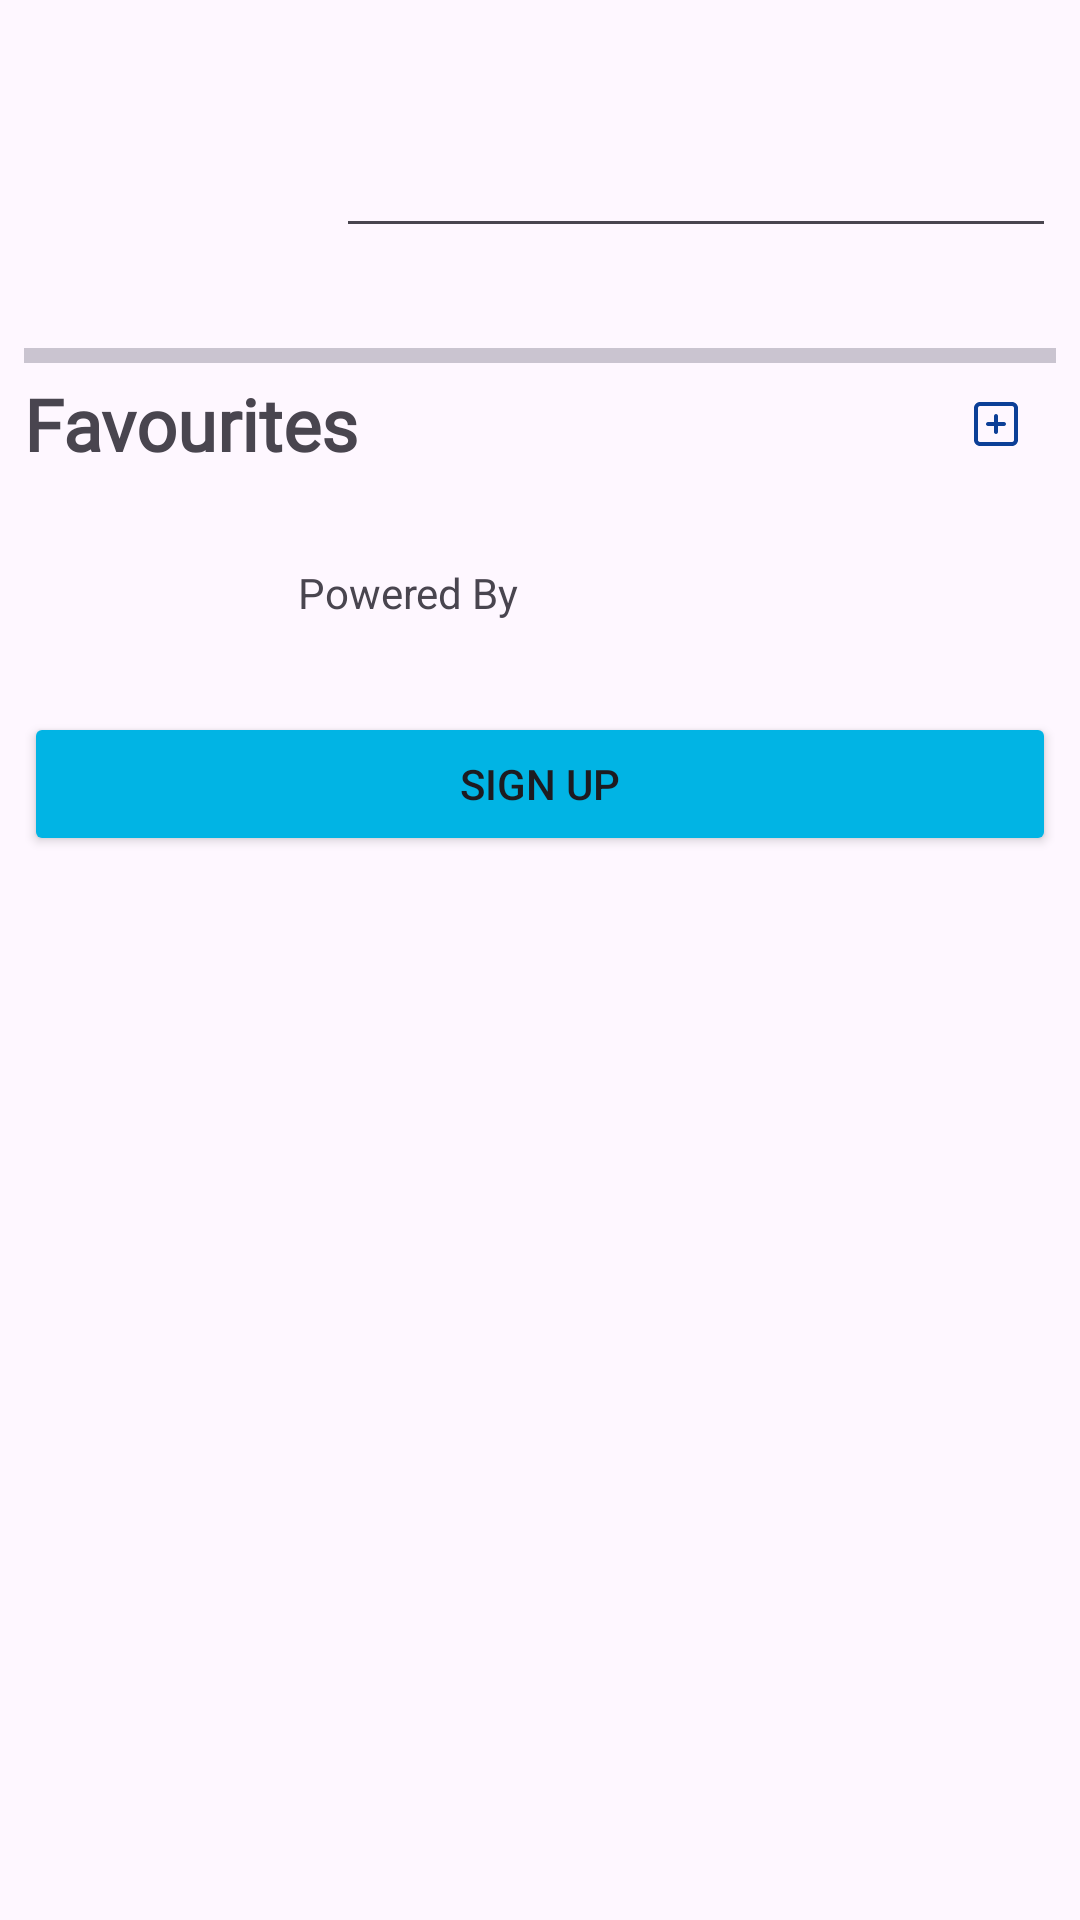

Named icons in this screenshot (1080×1920) and their bounding boxes, (x1, y1, x2, y2):
add square: (974, 402, 1018, 446)
